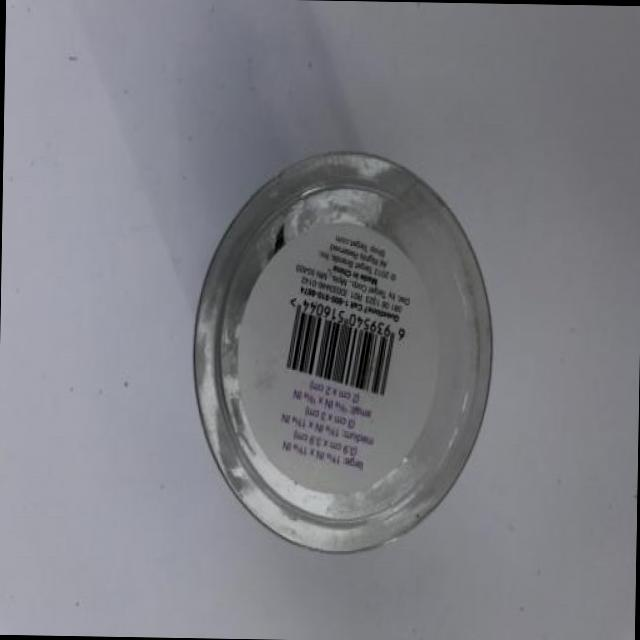Recycle: (188, 144, 500, 562)
